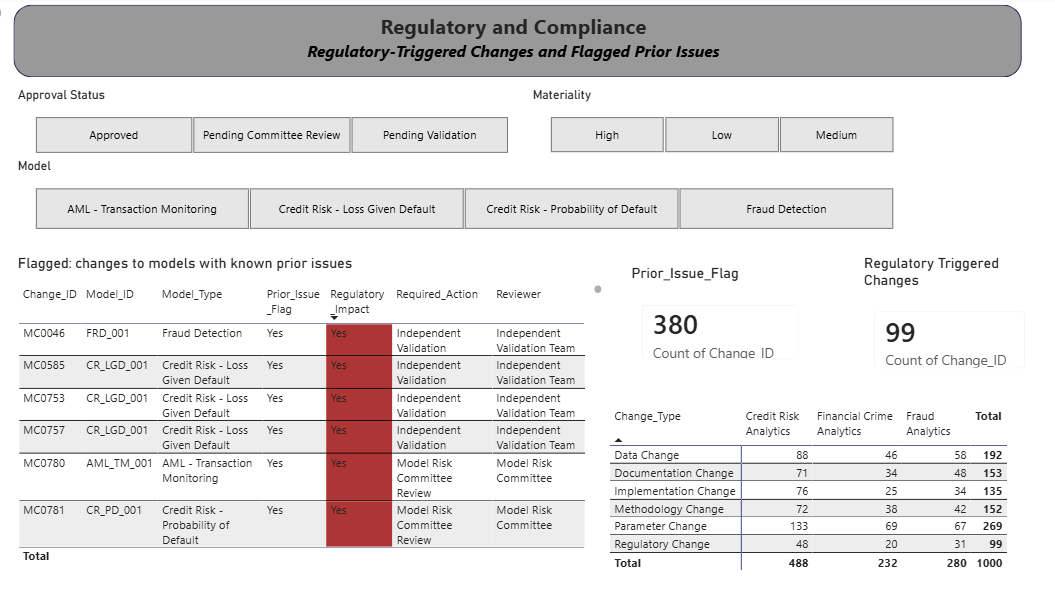

This screenshot's page, from the dashboard's own definition file:
{"tool":"powerbi","page":{"name":"Regulatory and Compliance","canvas":[1280,720],"ordinal":2},"visuals":[{"type":"cardVisual","title":"Regulatory Triggered Changes","fields":{"Data":["CountNonNull(Governance.Change_ID)"]},"box":[1042.7,303.6,211.2,151.1],"z":1000},{"type":"pivotTable","fields":{"Rows":["Governance.Change_Type"],"Columns":["Governance.Model_Owner"],"Values":["CountNonNull(Governance.Change_ID)"]},"box":[745,476.6,508.9,224.4],"z":2000},{"type":"tableEx","title":"Flagged: changes to models with known prior issues","fields":{"Values":["Governance.Change_ID","Governance.Model_ID","Governance.Model_Type","Governance.Prior_Issue_Flag","Governance.Regulatory_Impact","Governance.Required_Action","Governance.Reviewer"]},"box":[49.9,303.6,695.1,368.1],"z":4000},{"type":"cardVisual","title":"Prior_Issue_Flag","fields":{"Data":["CountNonNull(Governance.Change_ID)"]},"box":[769.9,315.3,218.5,129.1],"z":8000},{"type":"slicer","title":"Materiality","fields":{"Values":["Governance.Materiality"]},"box":[654.1,107.1,451.9,83.1],"z":8001},{"type":"slicer","title":"Approval Status","fields":{"Values":["Governance.Approval_Status"]},"box":[49.9,107.1,604.2,83.6],"z":8002},{"type":"slicer","title":"Model","fields":{"Values":["Governance.Model_Type"]},"box":[49.9,190.7,1055.9,89.5],"z":8003},{"type":"shape","box":[49.4,9.6,1182.9,85.1],"z":8004},{"type":"textbox","box":[81,15.1,1111.5,70],"z":8005},{"type":"actionButton","box":[0,0,100,40],"z":8006}]}

Visuals, with their boxes in screenshot pixels (x1, y1, x2, y2), scaled from the page's 1280x720 canvas onto the 1055x607 screenshot:
"Regulatory Triggered Changes" cardVisual: (x1=859, y1=256, x2=1033, y2=383)
pivotTable - Governance.Change_Type x Governance.Model_Owner: (x1=614, y1=402, x2=1033, y2=591)
"Flagged: changes to models with known prior issues" tableEx: (x1=41, y1=256, x2=614, y2=566)
"Prior_Issue_Flag" cardVisual: (x1=635, y1=266, x2=815, y2=375)
"Materiality" slicer: (x1=539, y1=90, x2=912, y2=160)
"Approval Status" slicer: (x1=41, y1=90, x2=539, y2=161)
"Model" slicer: (x1=41, y1=161, x2=911, y2=236)
shape: (x1=41, y1=8, x2=1016, y2=80)
textbox: (x1=67, y1=13, x2=983, y2=72)
actionButton: (x1=0, y1=0, x2=82, y2=34)
